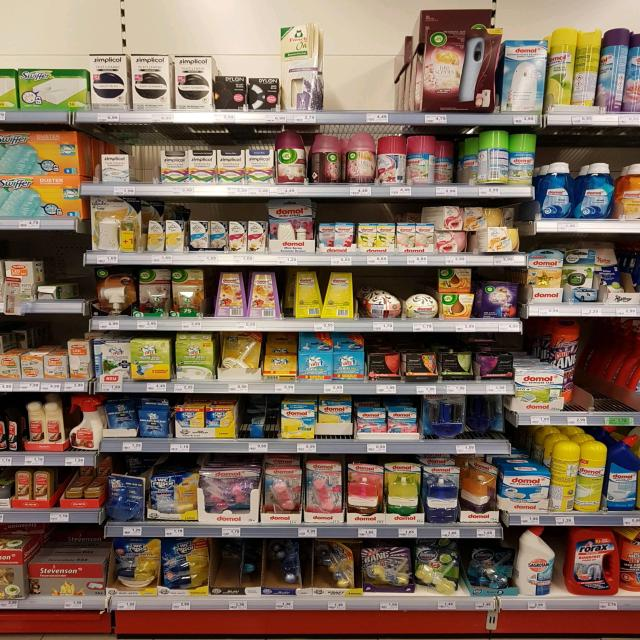empty: (326, 30, 397, 109), (581, 326, 613, 410), (466, 396, 497, 439), (133, 147, 158, 184), (67, 263, 89, 301)
